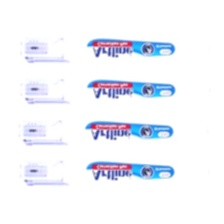correction_fluid: (18, 32, 211, 67), (15, 115, 211, 148), (16, 155, 211, 188), (17, 75, 210, 105)
